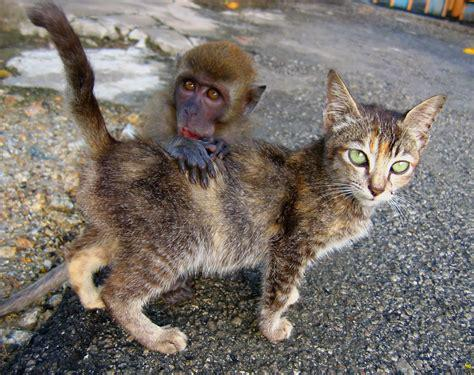cat: (27, 5, 440, 353)
monkey: (143, 43, 265, 188)
